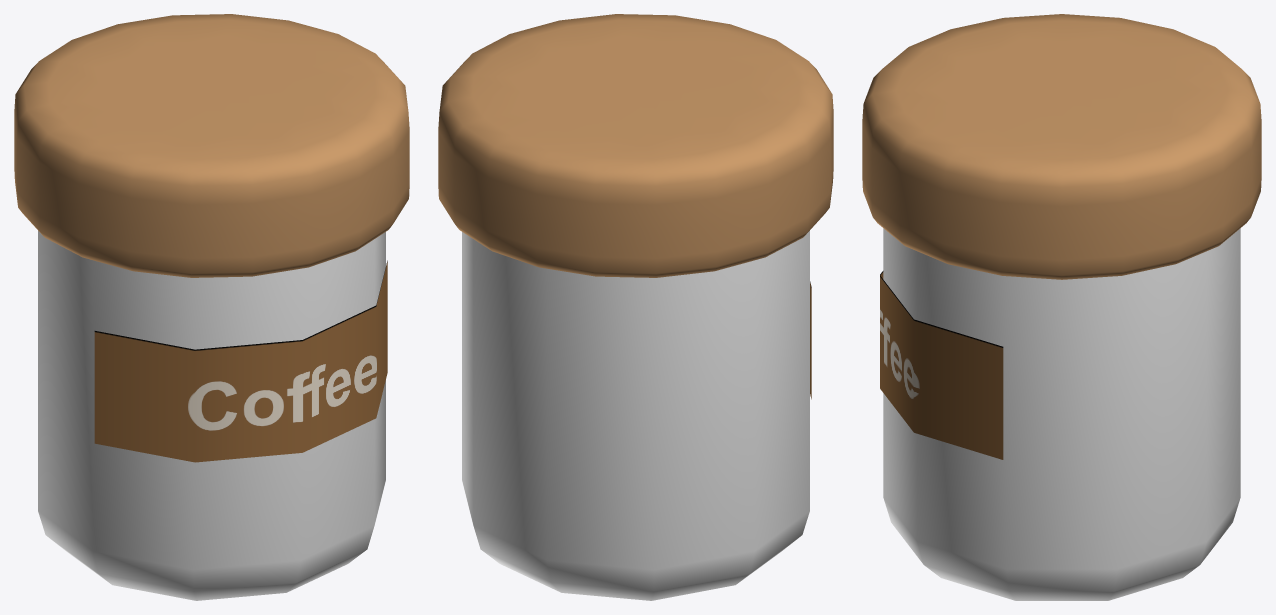
File: Prop_CafeJar_02_Coffee.glb
The picture shows the model from 3 angles, left to right: view 1: azimuth 30°, elevation 25°; view 2: azimuth 150°, elevation 25°; view 3: azimuth 270°, elevation 25°; orthographic projection.
Visible parts, largest first — view 1: SM_Prop_CafeJar_02_Body, SM_Prop_CafeJar_02_Lid; view 2: SM_Prop_CafeJar_02_Body, SM_Prop_CafeJar_02_Lid; view 3: SM_Prop_CafeJar_02_Body, SM_Prop_CafeJar_02_Lid.
Part boxes in pixels (x1,y1,x2,y2): SM_Prop_CafeJar_02_Body: [38, 231, 387, 600]; SM_Prop_CafeJar_02_Lid: [14, 14, 409, 277]; SM_Prop_CafeJar_02_Body: [462, 231, 811, 600]; SM_Prop_CafeJar_02_Lid: [438, 14, 833, 277]; SM_Prop_CafeJar_02_Body: [880, 228, 1240, 600]; SM_Prop_CafeJar_02_Lid: [862, 14, 1261, 279].
Bounding box in the file's own units: 0.4029 × 0.5095 × 0.4031.
Materials: 2 (2 with a texture image).
